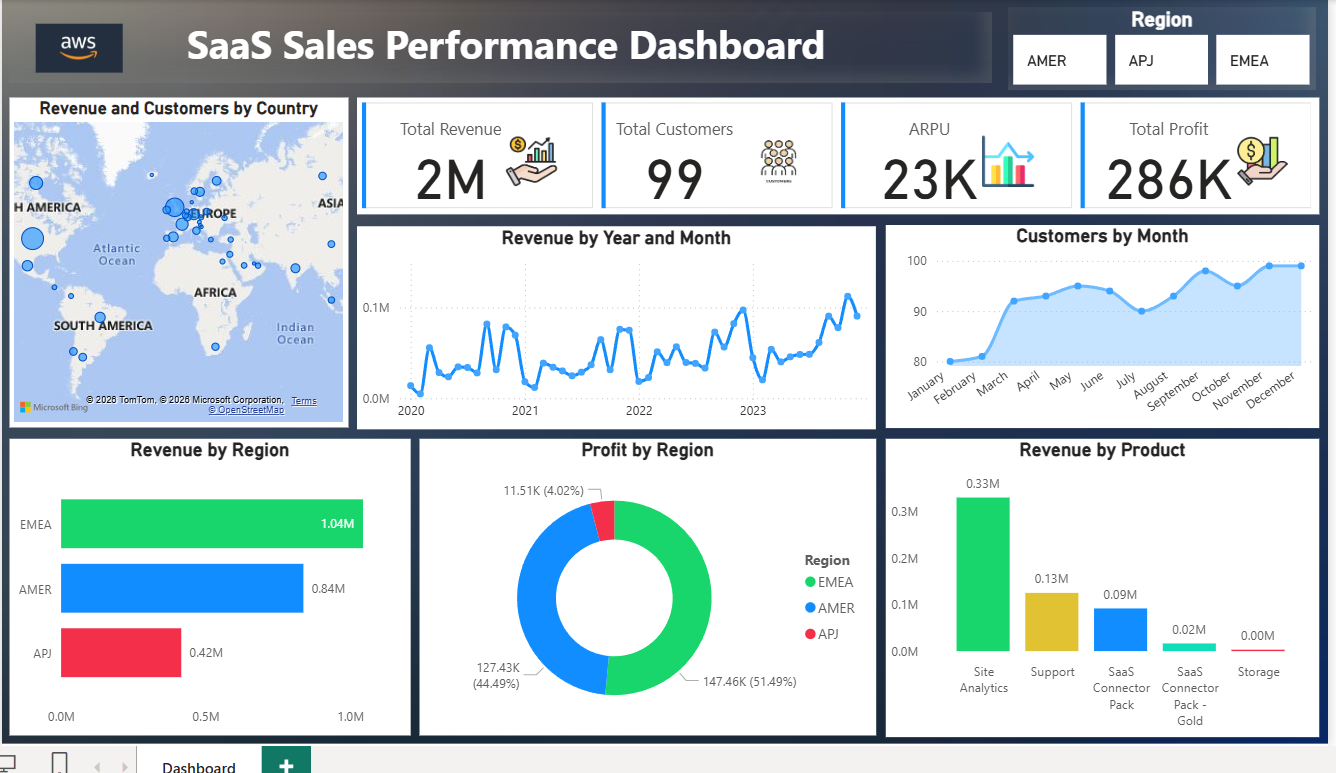

The page's visual inventory and layout, read from the dashboard file:
{"tool":"powerbi","page":{"name":"Dashboard","canvas":[1280,720],"ordinal":0},"visuals":[{"type":"barChart","title":"Revenue by Region","fields":{"Y":["SaaS-Sales.Total Revenue"],"Category":["SaaS-Sales.Region"]},"box":[6.9,424,387,286.8],"z":0},{"type":"columnChart","title":"Revenue by Product","fields":{"Category":["SaaS-Sales.Product"],"Y":["SaaS-Sales.Total Revenue"]},"box":[853.5,424,418.5,288.2],"z":1000},{"type":"lineChart","title":"Revenue by Year and Month","fields":{"Y":["SaaS-Sales.Total Revenue"],"Category":["Date Table.Date.Variation.Date Hierarchy.Year","Date Table.Date.Variation.Date Hierarchy.Month"]},"box":[343.1,218.2,500.9,196.2],"z":2000},{"type":"map","title":"Revenue and Customers by Country","fields":{"Category":["SaaS-Sales.Country"],"Size":["SaaS-Sales.Total Revenue"]},"box":[6.9,94.7,326.6,318.4],"z":3000},{"type":"donutChart","title":"Profit by Region","fields":{"Y":["Sum(SaaS-Sales.Profit)"],"Category":["SaaS-Sales.Region"]},"box":[403.4,424,440.5,286.8],"z":4000},{"type":"areaChart","title":"Customers by Month","fields":{"Y":["SaaS-Sales.Total Customers"],"Category":["Date Table.Date.Variation.Date Hierarchy.Month"]},"box":[853.5,216.8,418.5,196.2],"z":5000},{"type":"advancedSlicerVisual","fields":{"Values":["SaaS-Sales.Region"]},"box":[971.7,6.7,296.7,80],"z":7000},{"type":"textbox","box":[6.7,11.7,948.3,68.3],"z":8000},{"type":"cardVisual","fields":{"Data":["SaaS-Sales.Total Revenue","SaaS-Sales.Total Customers","SaaS-Sales.ARPU","SaaS-Sales.Total Profit"]},"box":[343.1,94.7,929,112.5],"z":9000},{"type":"image","box":[20,18.3,108.3,56.7],"z":10000}]}

Visuals, with their boxes in screenshot pixels (x1, y1, x2, y2):
"Revenue by Region" barChart: left=11, top=436, right=409, bottom=732
"Revenue by Product" columnChart: left=882, top=436, right=1313, bottom=733
"Revenue by Year and Month" lineChart: left=357, top=225, right=872, bottom=427
"Revenue and Customers by Country" map: left=11, top=97, right=347, bottom=425
"Profit by Region" donutChart: left=419, top=436, right=872, bottom=732
"Customers by Month" areaChart: left=882, top=223, right=1313, bottom=425
advancedSlicerVisual - SaaS-Sales.Region: left=1004, top=7, right=1309, bottom=89
textbox: left=10, top=12, right=986, bottom=82
cardVisual - SaaS-Sales.Total Revenue x SaaS-Sales.Total Customers: left=357, top=97, right=1313, bottom=213
image: left=24, top=19, right=136, bottom=77
